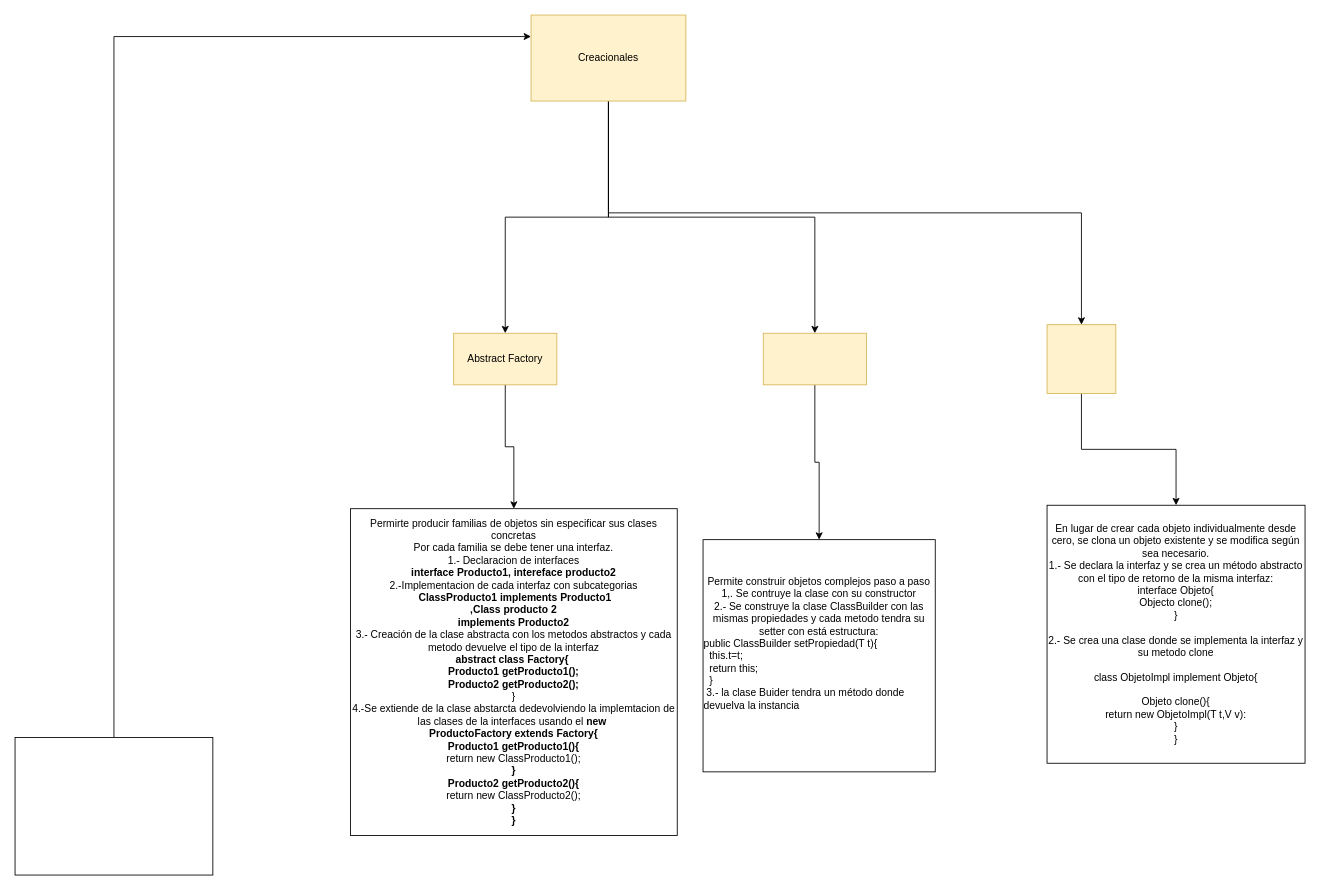
Some shapes in this 1320 by 890 pixel diagram are drawn without their labels. The shapes that lost their labels are listed below. From the top down, each one's centre as x and y in pixels, then its label:
At point 814,358: "Builder".
At point 1081,358: "Prototype".
At point 113,806: "Patron de diseño".
